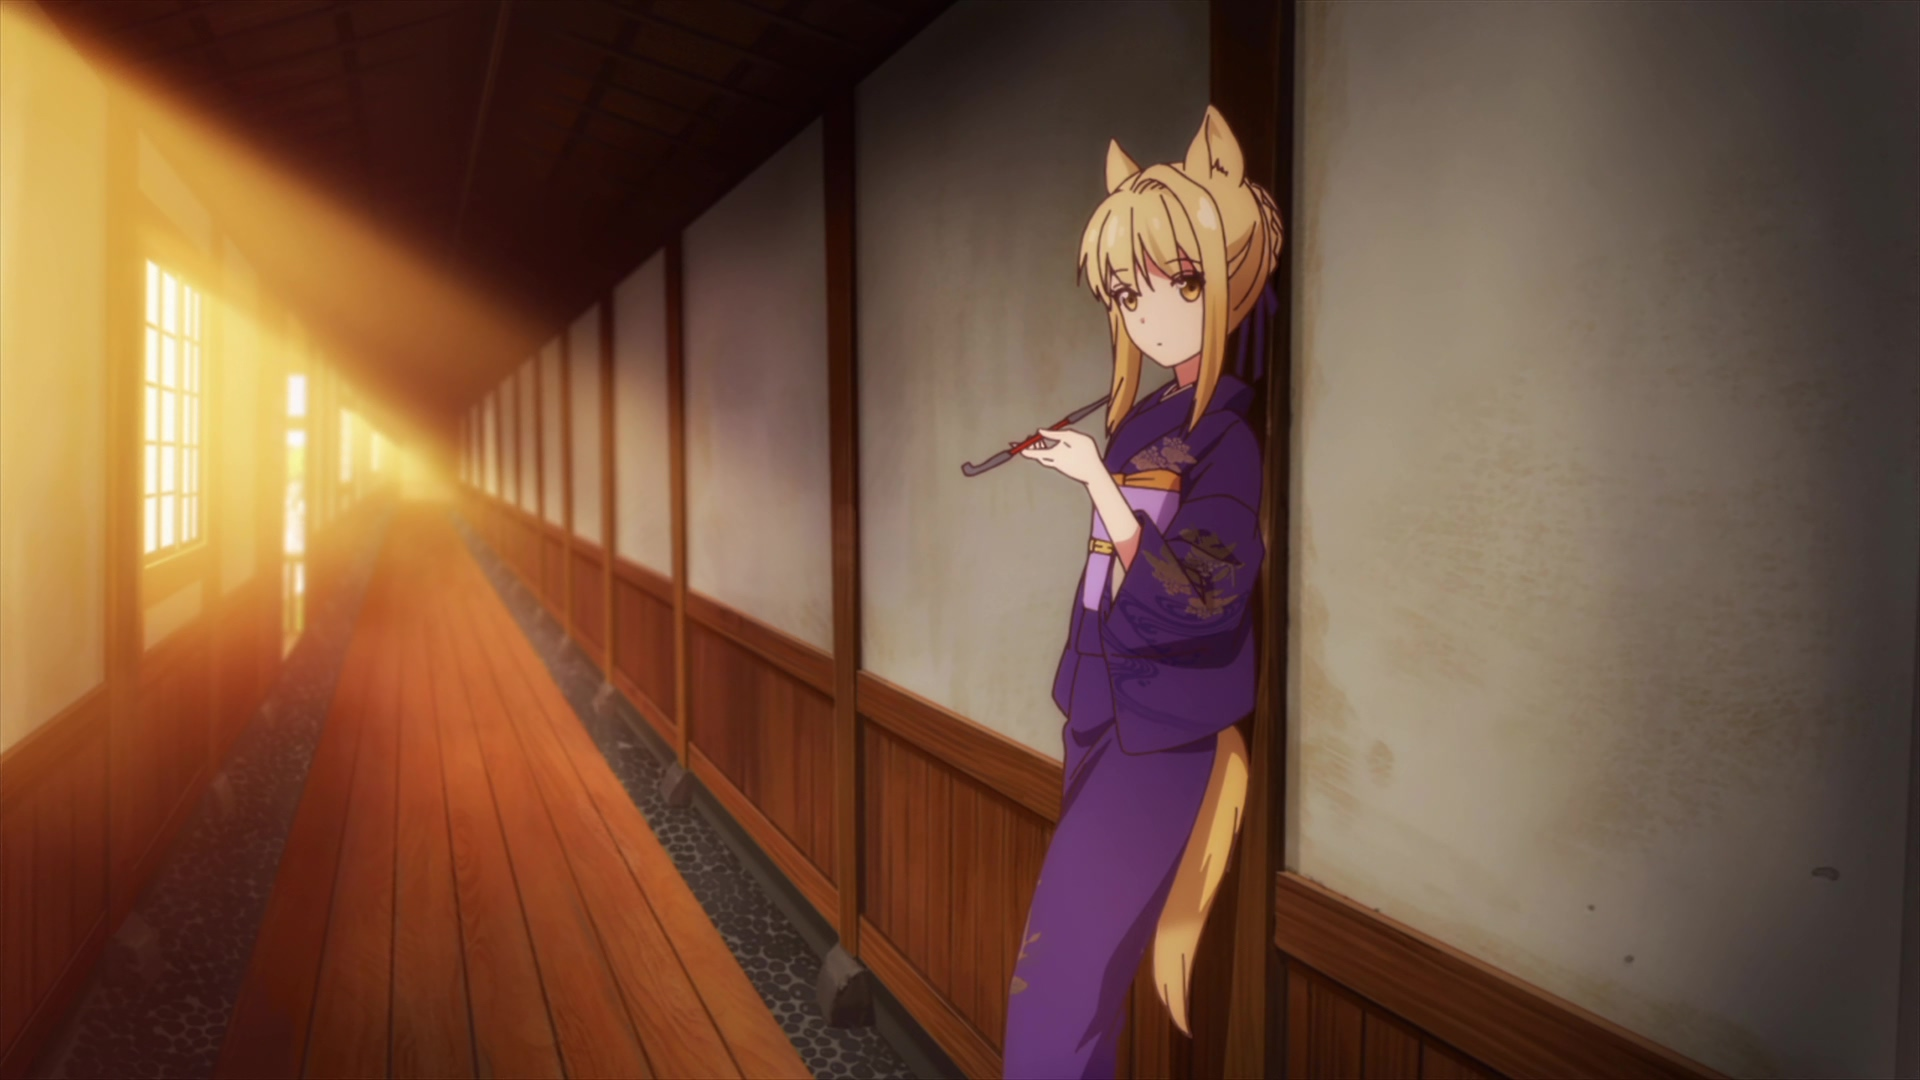桐: (1004, 104, 1286, 1080)
